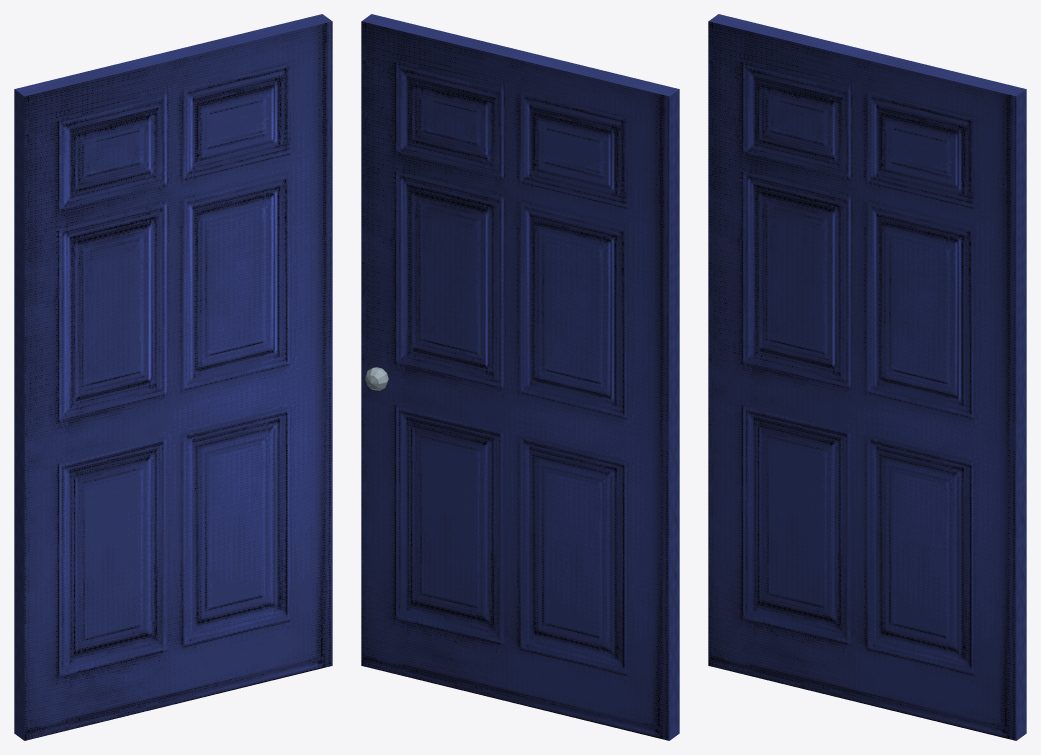
File: door_10.glb
3 views of the same model, side by side, from view 1: azimuth 30°, elevation 25°; view 2: azimuth 150°, elevation 25°; view 3: azimuth 330°, elevation 25° (orthographic).
Visible parts, largest first — view 1: pSphere7.001; view 2: pSphere7.001; view 3: pSphere7.001.
Boxes of the visible parts, x1,y1,x2,y2 form: pSphere7.001: [14, 14, 332, 740]; pSphere7.001: [361, 14, 679, 740]; pSphere7.001: [708, 14, 1026, 740].
Bounding box in the file's own units: 1.05 × 2.1 × 0.1192.
Materials: 2 (2 with a texture image).
